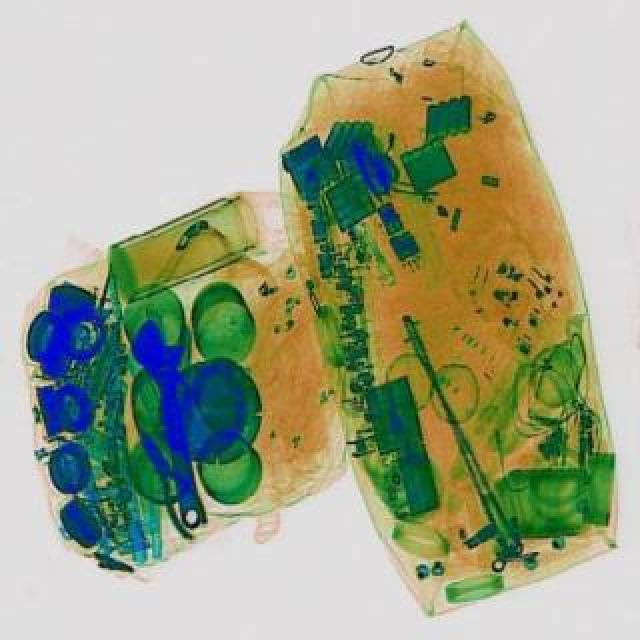scissors: (124, 310, 216, 530)
wrench: (126, 422, 214, 538)
